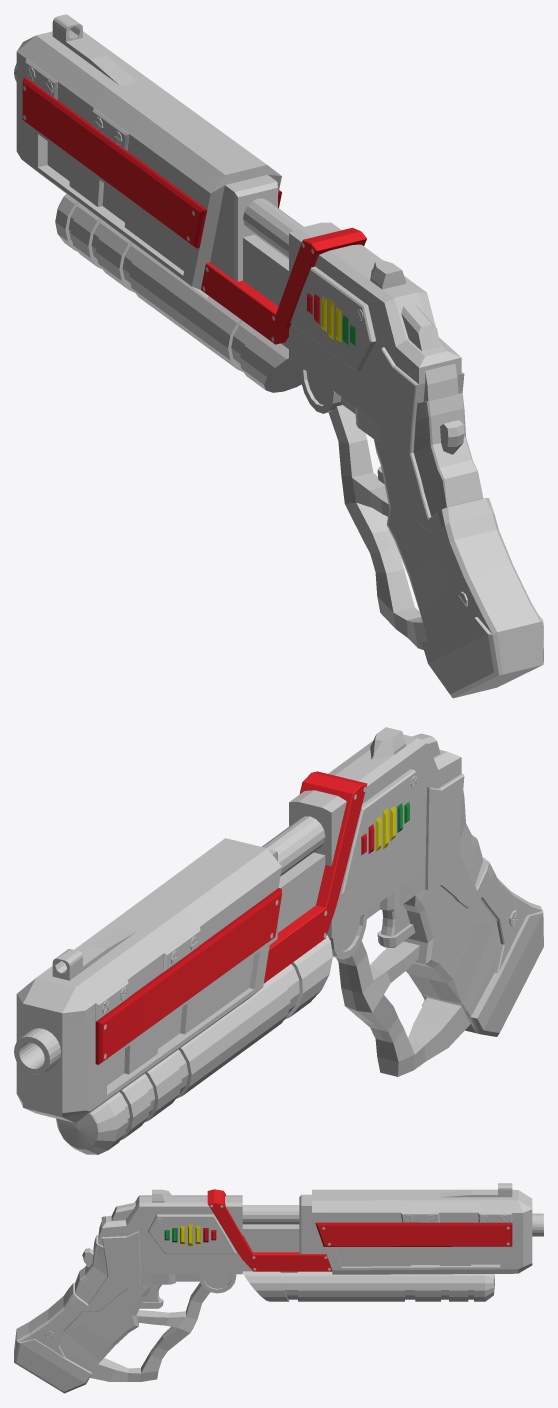
Rendered from GUN (2).fbx.
3 views of the same model, one above another, from view 1: azimuth 30°, elevation 25°; view 2: azimuth 150°, elevation 25°; view 3: azimuth 270°, elevation 25° (orthographic). The views are drawn at different scales.
Parts seen in each view (by area): view 1: GUN; view 2: GUN; view 3: GUN.
Boxes of the visible parts, box(x1,y1,x2,y2) form: GUN: box(14, 14, 543, 698); GUN: box(14, 727, 543, 1154); GUN: box(14, 1183, 543, 1393).
Size of the model in its own units: 10.68 by 45.72 by 108.
